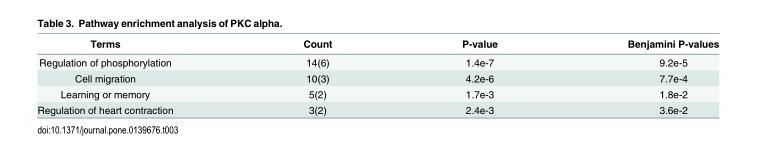table: (36, 37, 718, 115)
table column: (36, 37, 237, 115), (396, 37, 561, 115), (237, 37, 396, 115), (561, 37, 718, 115)
table column header: (36, 37, 718, 52)
table row: (36, 52, 718, 69), (36, 69, 718, 85), (36, 85, 718, 101), (36, 37, 718, 52), (36, 101, 718, 115)
